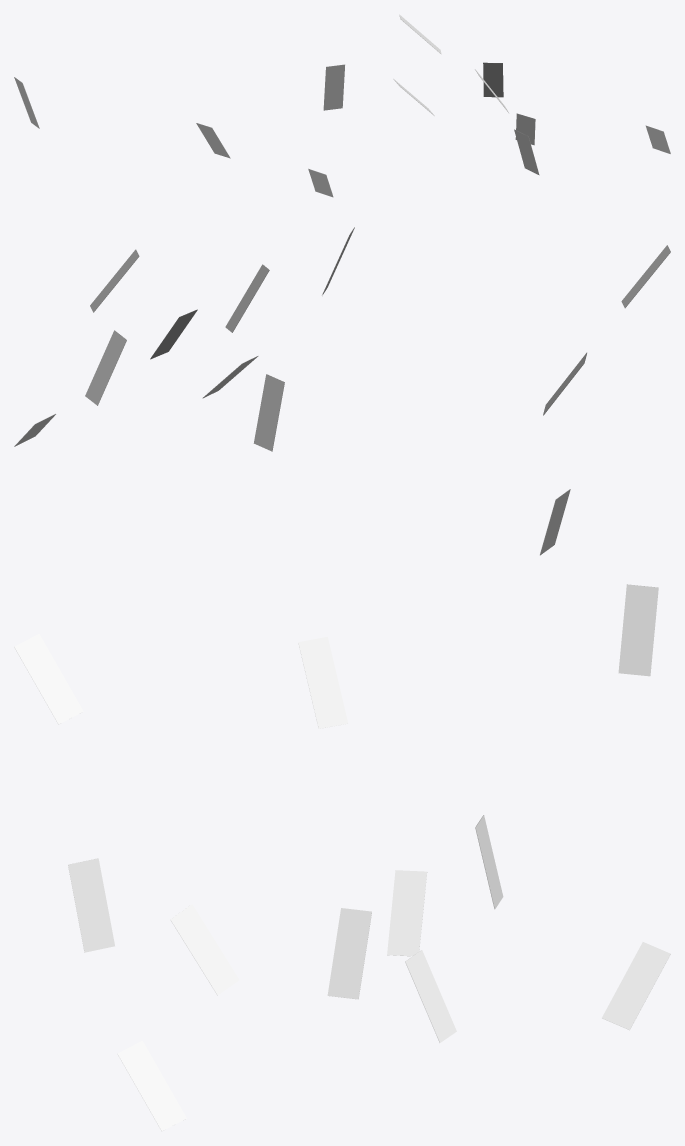
The model's file is fruits price tag.fbx.
3 renders of one model, top to bottom at view 1: azimuth 30°, elevation 25°; view 2: azimuth 150°, elevation 25°; view 3: azimuth 270°, elevation 25°, orthographic. The views are drawn at different scales.
Parts seen in each view (by area): view 1: price tag.073, price tag.069, price tag.076, price tag.075, price tag.072, price tag.077, price tag.071, price tag.078; view 2: price tag.073, price tag.069, price tag.078, price tag.072, price tag.068, price tag.071, price tag.077; view 3: price tag.078, price tag.076, price tag.068, price tag.074, price tag.075, price tag.070, price tag.071, price tag.077, price tag.072, price tag.069, price tag.073.
Boxes of the visible parts, x1,y1,x2,y2 form: price tag.073: (323,64,344,110); price tag.069: (483,62,503,97); price tag.076: (514,129,539,175); price tag.075: (196,123,230,158); price tag.072: (515,113,535,145); price tag.077: (308,168,333,197); price tag.071: (645,125,670,153); price tag.078: (14,77,39,128); price tag.073: (253,374,284,451); price tag.069: (85,330,126,405); price tag.078: (540,489,570,555); price tag.072: (225,264,269,332); price tag.068: (150,309,197,359); price tag.071: (90,249,139,312); price tag.077: (621,245,670,308); price tag.078: (618,584,658,676); price tag.076: (68,858,114,952); price tag.068: (327,908,371,999); price tag.074: (387,870,427,956); price tag.075: (298,637,348,728); price tag.070: (602,942,670,1030); price tag.071: (117,1041,186,1131); price tag.077: (14,634,83,724); price tag.072: (170,904,239,995); price tag.069: (405,950,456,1042); price tag.073: (475,815,503,909).
Size of the model in its own units: 425 by 89.1 by 294.
